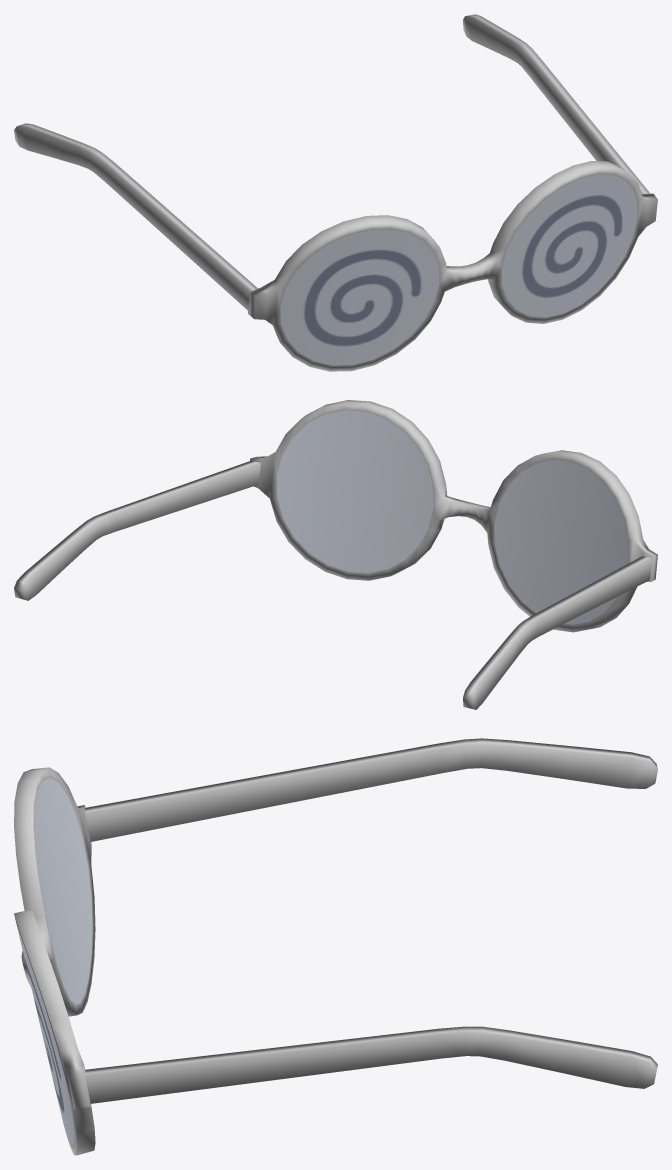
File: glass_003.fbx
3 renders of one model, top to bottom at view 1: azimuth 30°, elevation 25°; view 2: azimuth 150°, elevation 25°; view 3: azimuth 270°, elevation 25°, orthographic. The views are drawn at different scales.
Parts seen in each view (by area): view 1: glass_base_003_m, glass_R_003_m, glass_L_003_m; view 2: glass_base_003_m, glass_L_003_m, glass_R_003_m; view 3: glass_base_003_m, glass_R_003_m, glass_L_003_m.
Part boxes in pixels (box(x1,y1,x2,y2)): glass_base_003_m: box(248, 161, 657, 371); glass_R_003_m: box(14, 123, 257, 310); glass_L_003_m: box(463, 14, 650, 194); glass_base_003_m: box(250, 400, 657, 632); glass_L_003_m: box(14, 460, 260, 600); glass_R_003_m: box(463, 556, 651, 709); glass_base_003_m: box(14, 767, 95, 1155); glass_R_003_m: box(85, 738, 657, 841); glass_L_003_m: box(85, 1026, 657, 1103).
Size of the model in its own units: 11.31 by 3.86 by 10.02.
